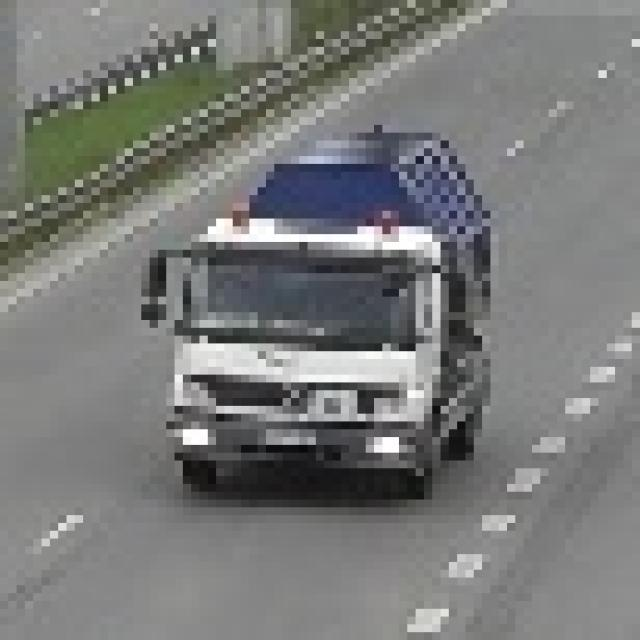truck: (142, 117, 490, 484)
